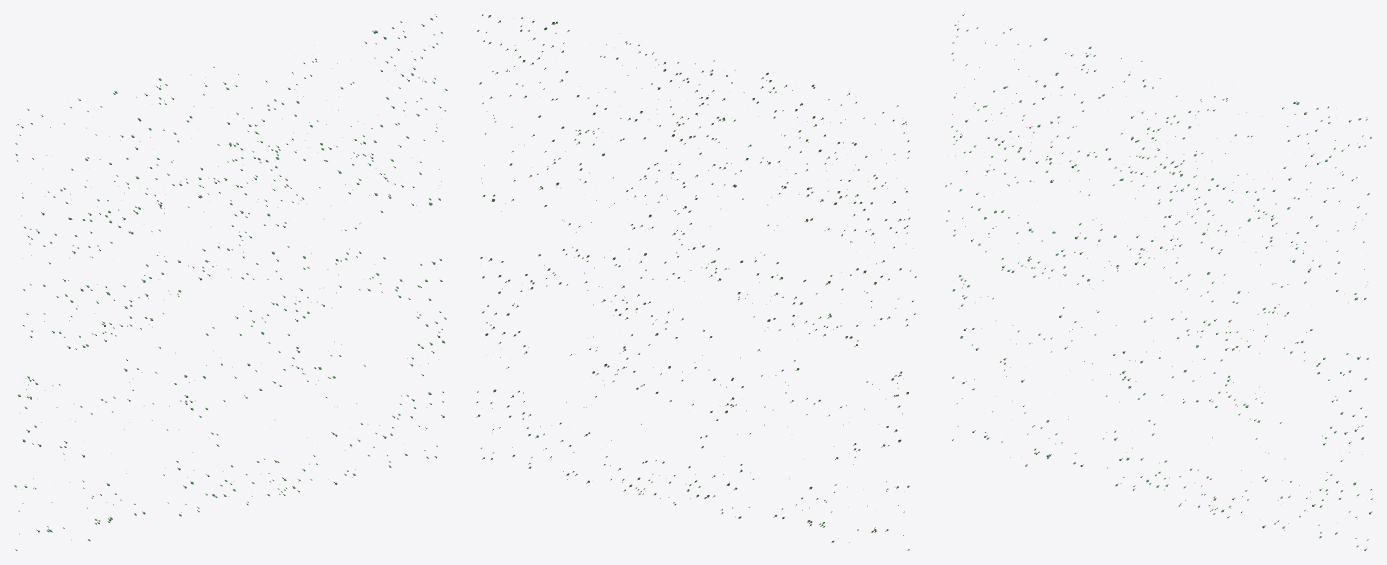
File: forest_visual_full_before_perf.glb
3 views of the same model, side by side, from view 1: azimuth 30°, elevation 25°; view 2: azimuth 150°, elevation 25°; view 3: azimuth 330°, elevation 25° (orthographic). The views are drawn at different scales.
Bounding box in the file's own units: 1960 × 1964 × 231.
